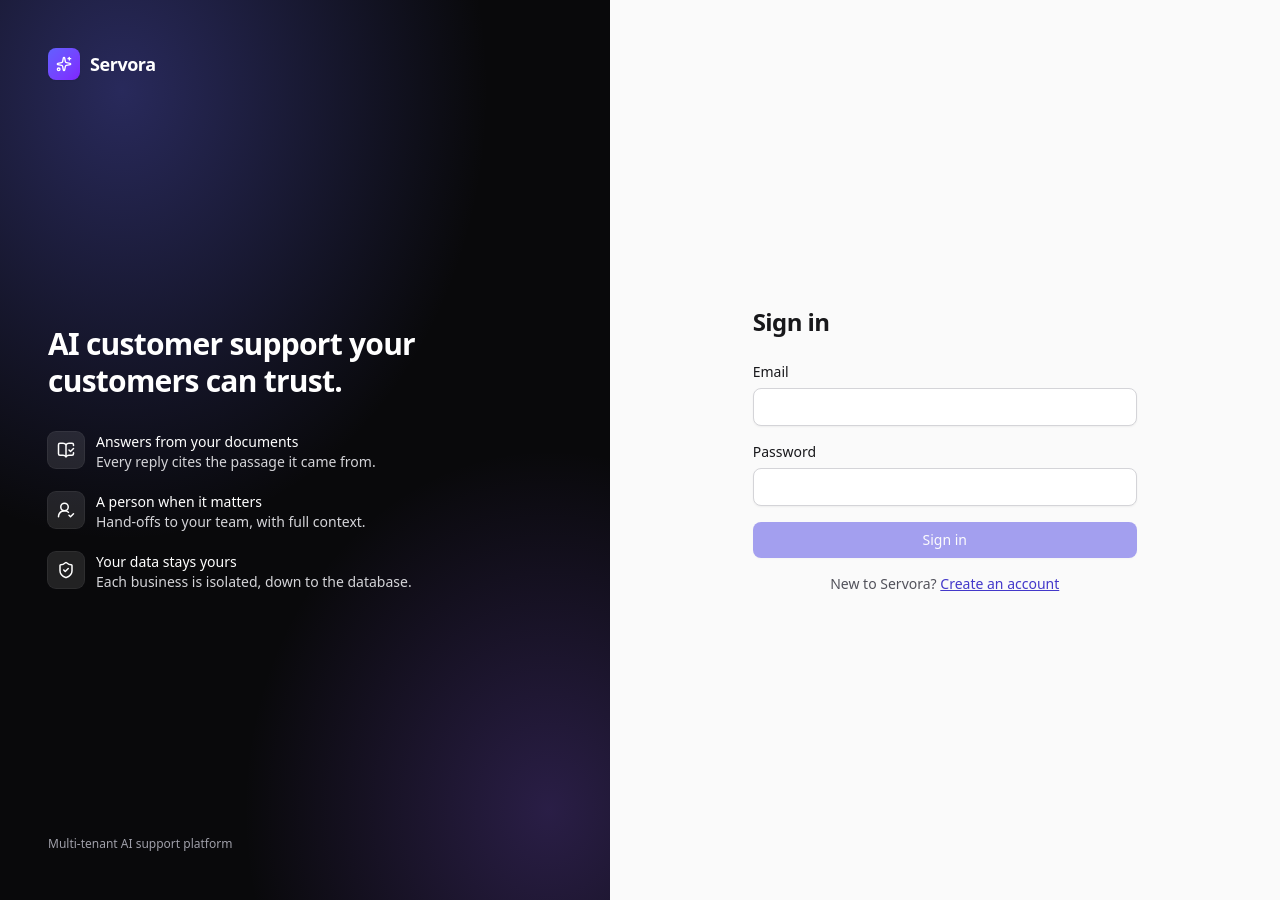
it: sign in › signs in and shows the user's workspaces
Type "owner@example.test" into the field labelled "Email" at (945, 407), box x1=753 y1=388 x2=1137 y2=426
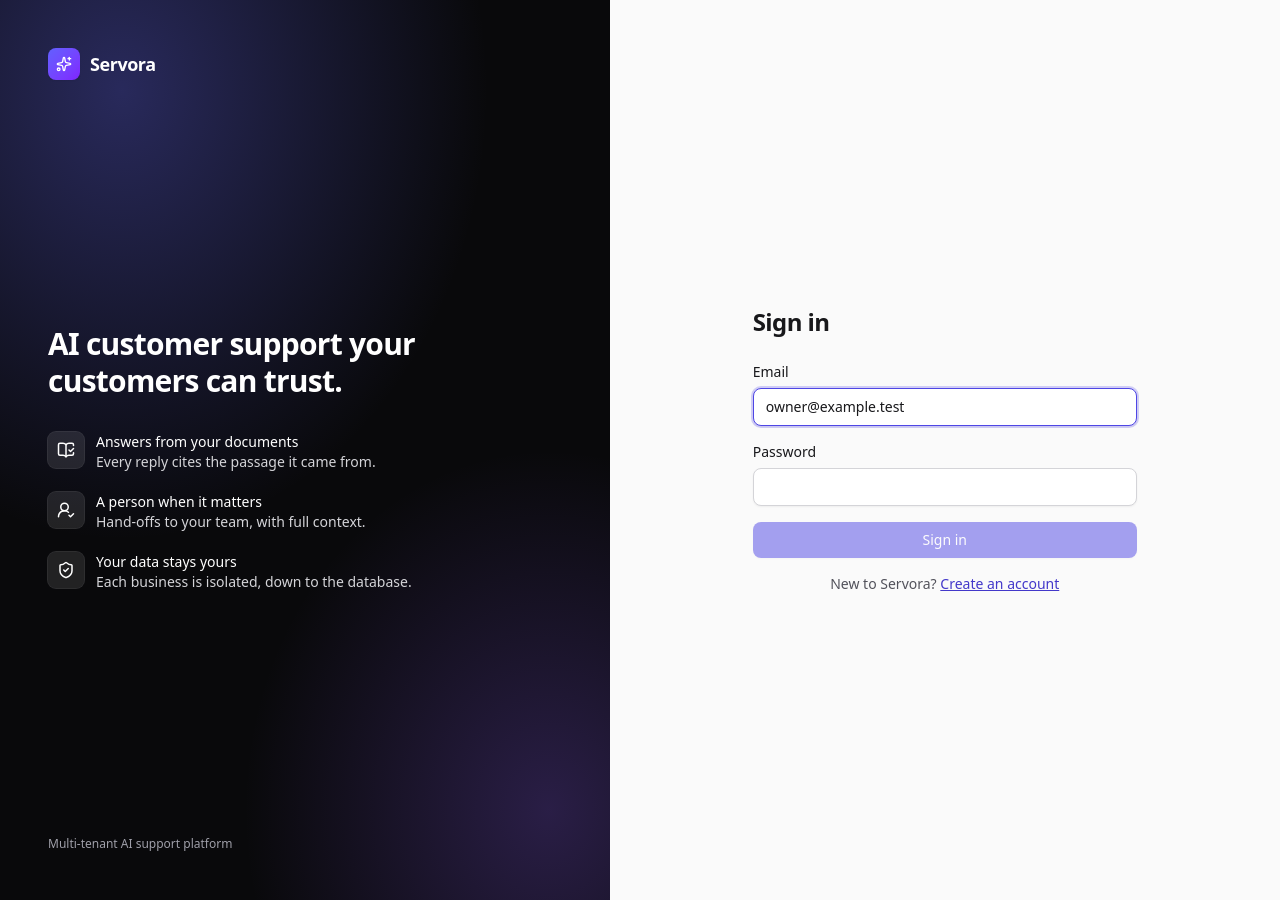
Type "correct-password" into the password field labelled "Password" at (945, 487), box x1=753 y1=468 x2=1137 y2=506
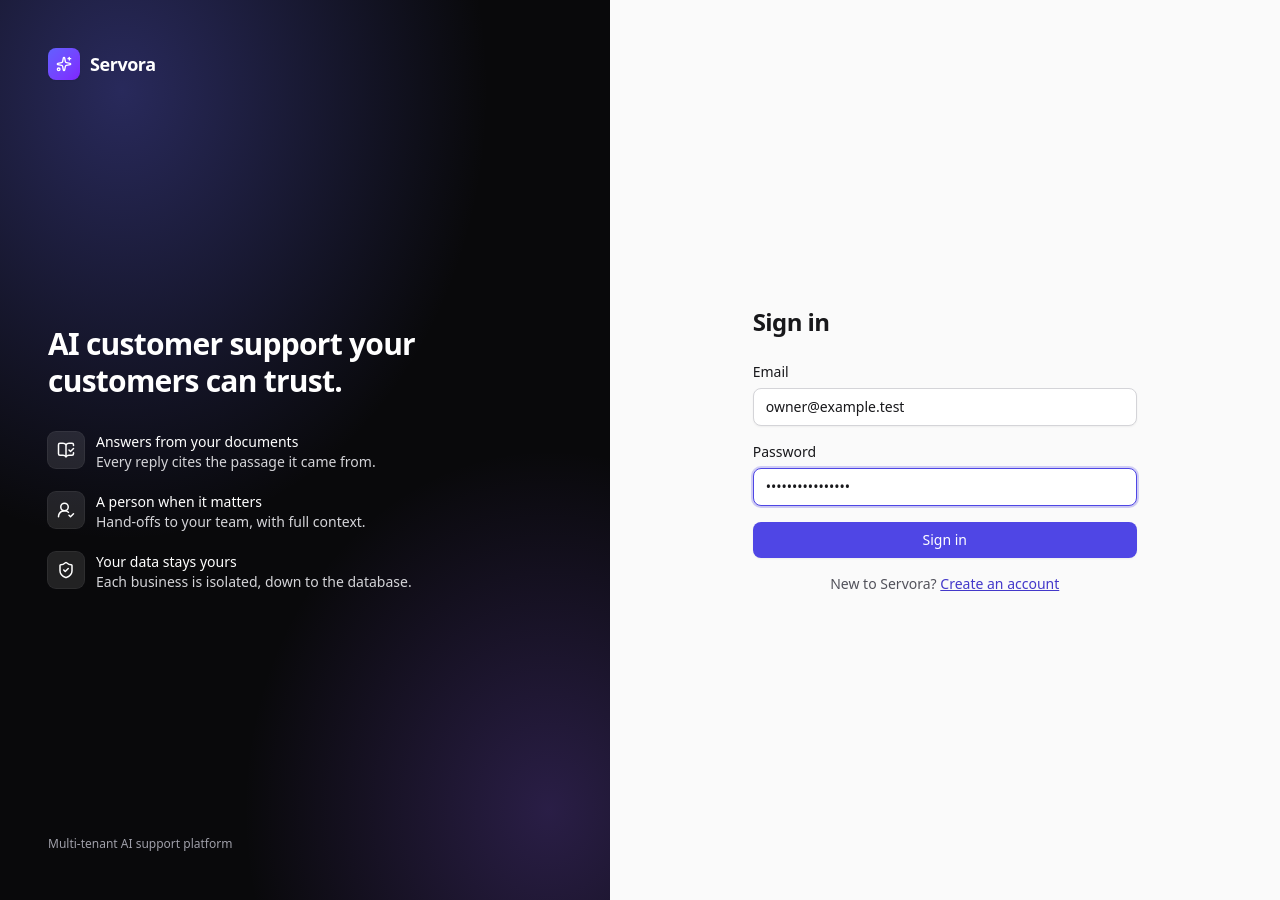
Click the button "Sign in" at (945, 540), box x1=753 y1=522 x2=1137 y2=558
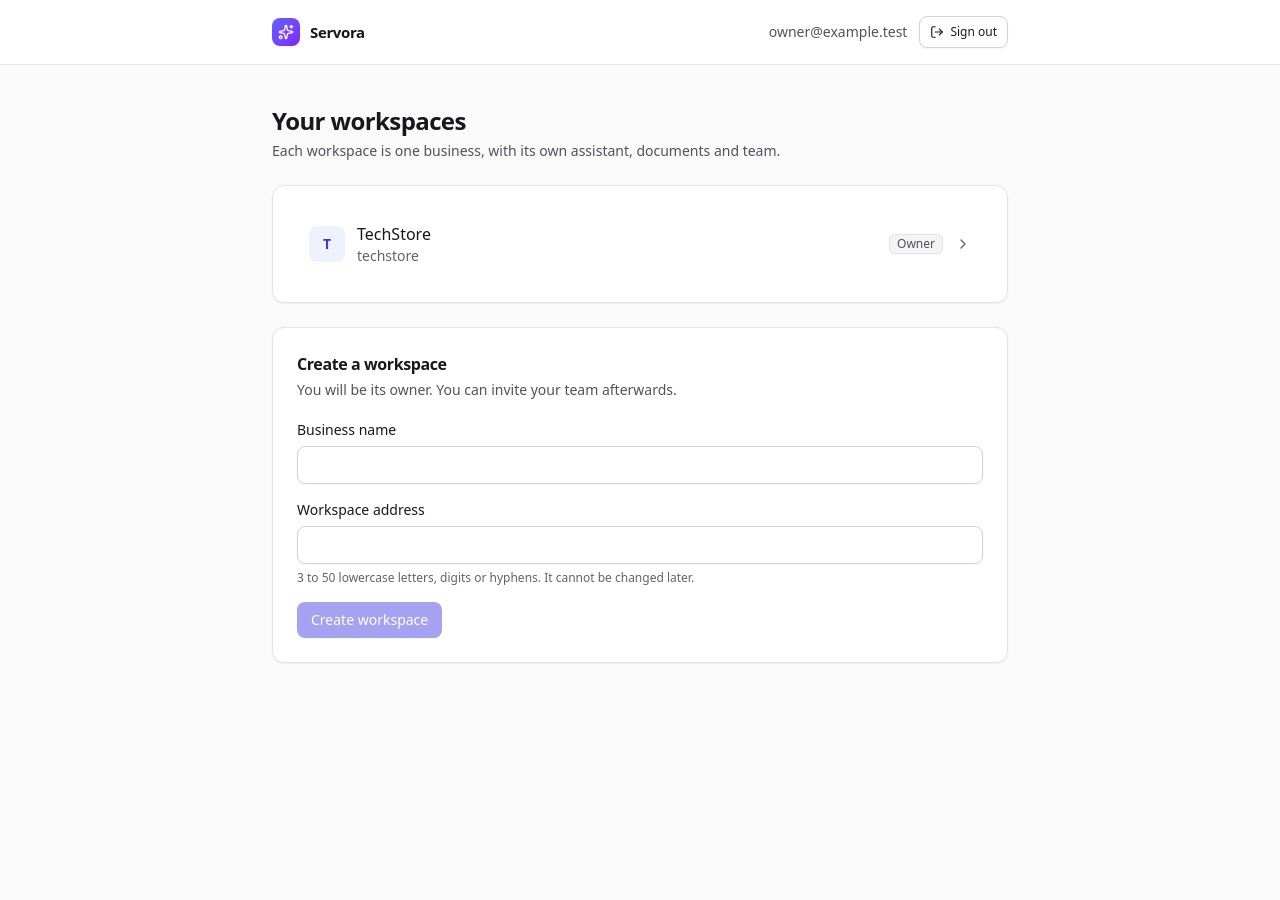
Result: the link "T TechStore techstore Owner" is shown at x1=297 y1=210 x2=983 y2=278
